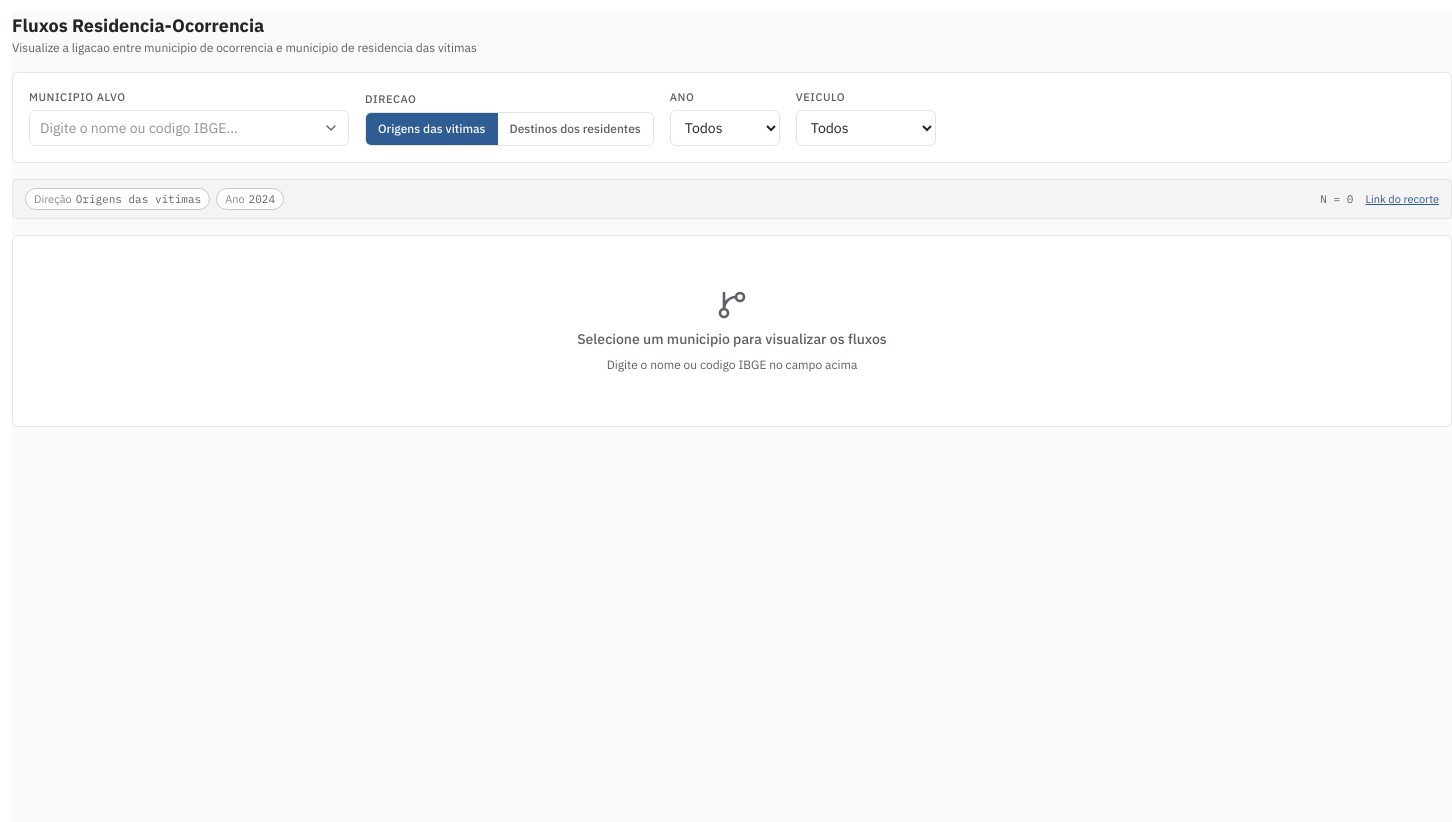
Scenario: FluxosPage › exibe KPIs e tabela apos selecionar municipio
Type "Vitória" into the dropdown with placeholder "Digite o nome ou codigo IBGE..." at (189, 128), box 29,110 -> 349,146
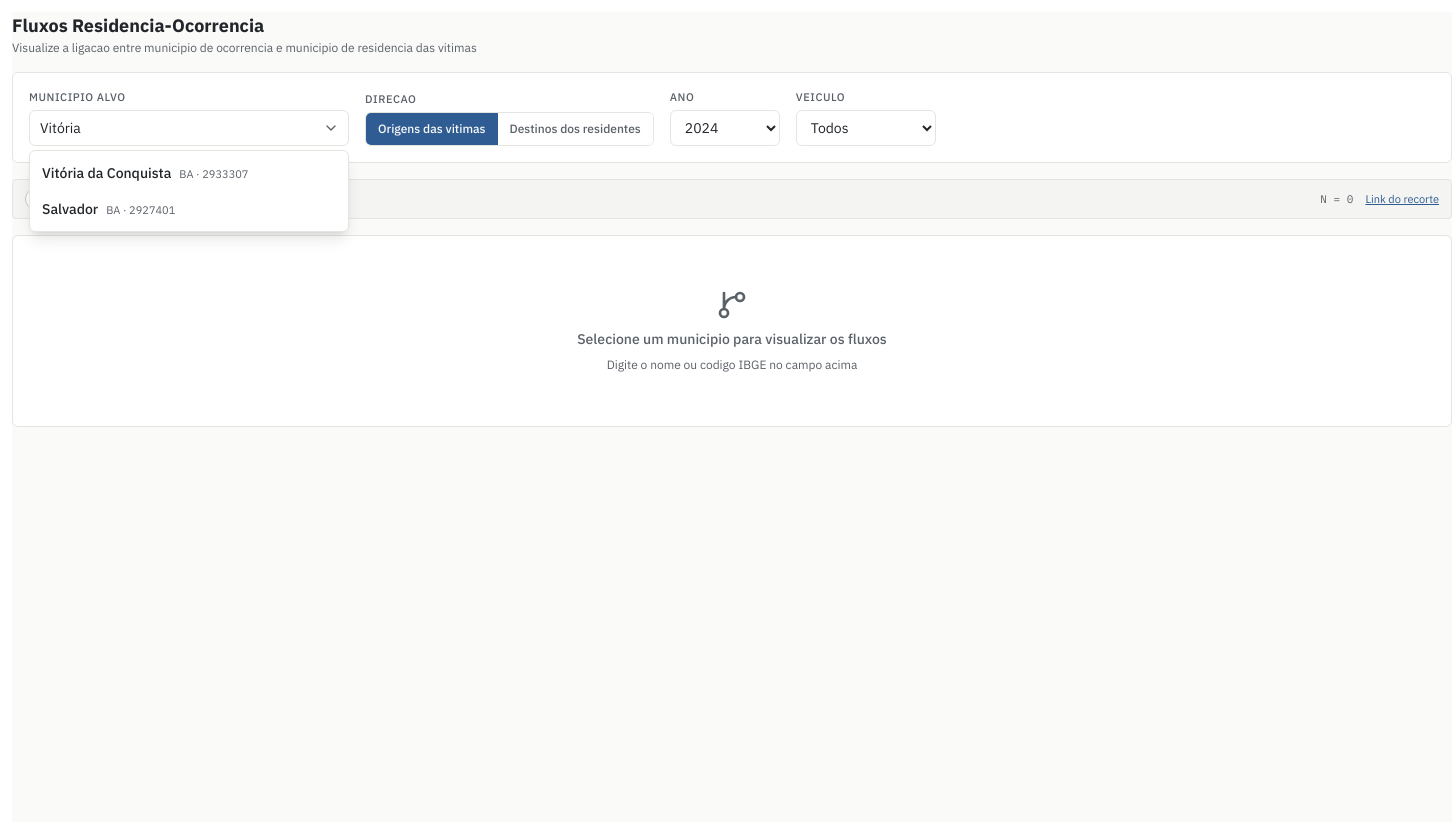
Check: the text "Vitória da Conquista" is shown
Press the mouse on the text "Vitória da Conquista" at (107, 172), box 42,164 -> 171,182
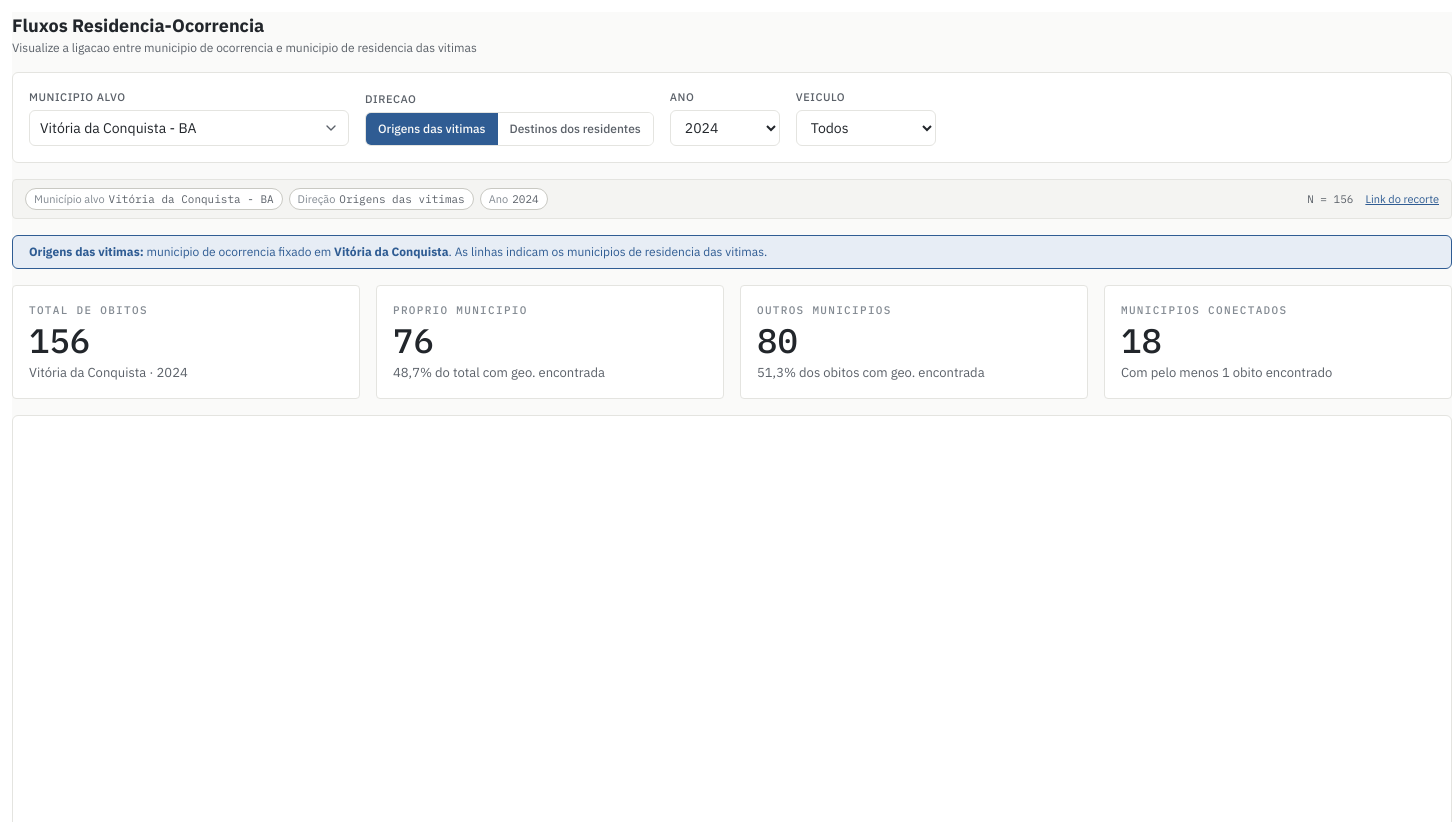
Check: the text "Total de obitos" is shown, box 29,302 -> 148,318
Check: the text "Proprio municipio" is shown, box 393,302 -> 528,318
Check: the text "Outros municipios" is shown, box 757,302 -> 892,318
